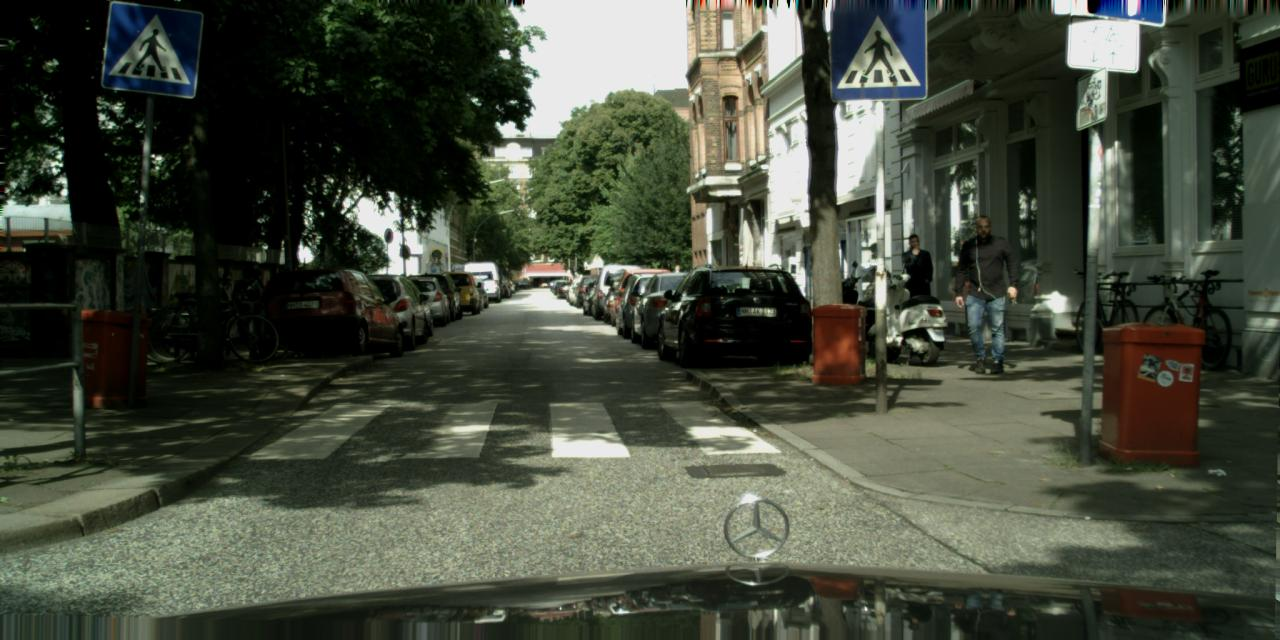ped: (952, 215, 1018, 374), (895, 234, 937, 338), (232, 266, 262, 342), (244, 268, 272, 334)
